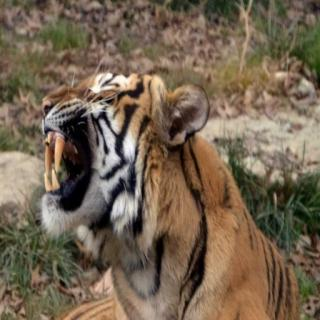Tiger: (28, 56, 317, 320)
